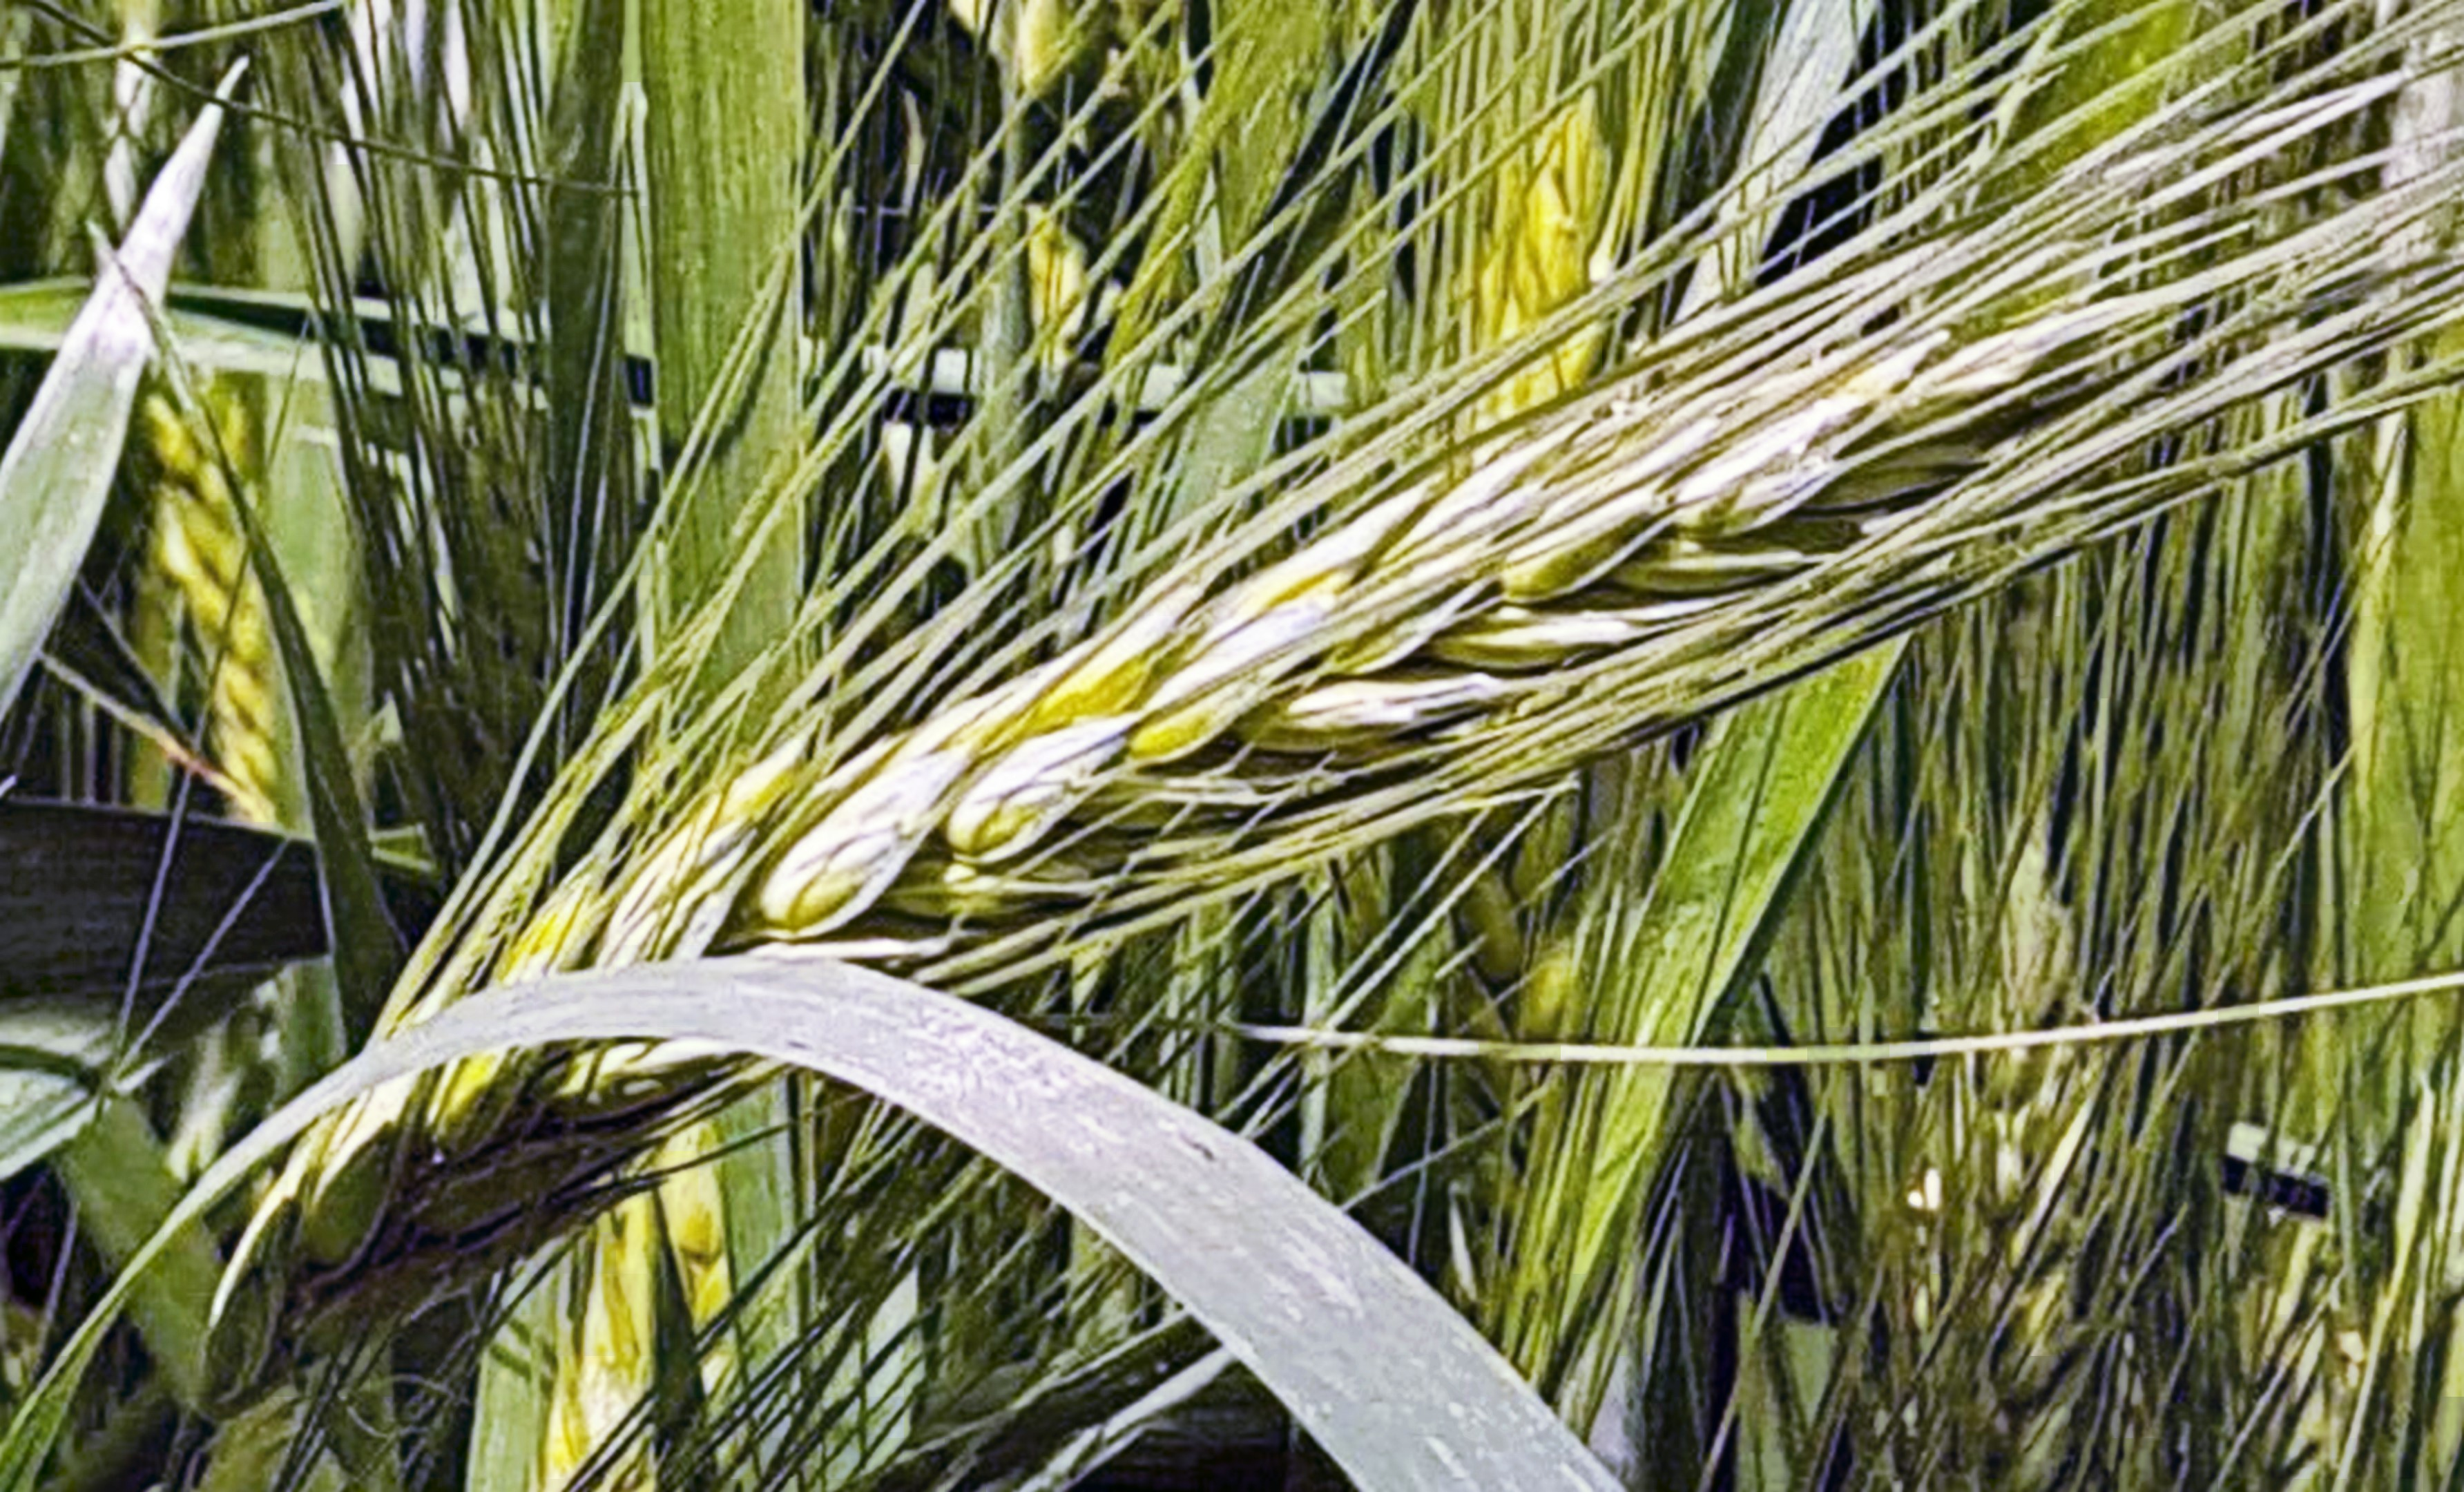Healthy Wheat: (275, 213, 2087, 1328)
